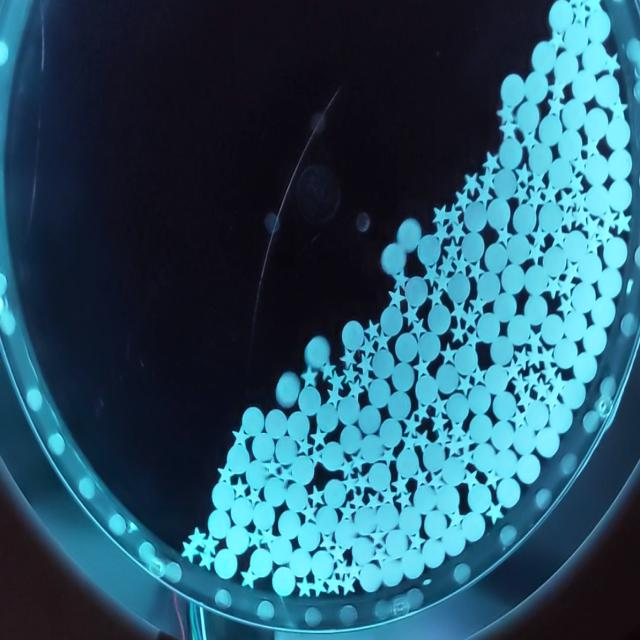disco blanco: (570, 66, 596, 105), (500, 72, 526, 108), (379, 242, 408, 274), (415, 232, 443, 265), (537, 113, 564, 147), (459, 230, 487, 262), (602, 236, 630, 268), (534, 426, 562, 458), (524, 70, 550, 104), (584, 106, 610, 140), (584, 152, 610, 186), (403, 273, 429, 307), (530, 41, 558, 72), (396, 217, 423, 249), (500, 262, 527, 294), (495, 443, 519, 479), (276, 372, 300, 408), (558, 127, 584, 160), (340, 319, 366, 352), (562, 376, 587, 410), (467, 381, 492, 415), (270, 532, 295, 566), (570, 282, 598, 312), (552, 338, 580, 368), (466, 412, 494, 442), (224, 525, 252, 555), (498, 137, 524, 169), (554, 52, 580, 84), (582, 41, 608, 73), (604, 118, 630, 150), (582, 324, 608, 356), (488, 335, 514, 367), (492, 389, 518, 421), (490, 418, 516, 450), (471, 441, 497, 473), (240, 405, 266, 437), (466, 482, 492, 514), (214, 548, 240, 580), (562, 96, 586, 130), (512, 422, 536, 456), (306, 334, 330, 368), (492, 168, 518, 199), (594, 75, 620, 106), (598, 267, 624, 298), (476, 312, 502, 343), (524, 399, 550, 430), (487, 197, 512, 229), (541, 312, 566, 344), (423, 508, 448, 540), (296, 520, 321, 552), (462, 200, 488, 230), (548, 158, 574, 188), (537, 202, 563, 232), (578, 252, 604, 282), (592, 297, 618, 327), (562, 310, 588, 340), (414, 374, 440, 404), (572, 352, 598, 382), (249, 548, 275, 578), (272, 566, 298, 596), (416, 331, 441, 362), (290, 454, 315, 485), (587, 10, 611, 42), (564, 24, 588, 56), (585, 184, 609, 216), (507, 314, 531, 346), (454, 343, 478, 375), (436, 362, 460, 394), (394, 330, 418, 362), (380, 304, 404, 336), (445, 390, 469, 422), (550, 402, 574, 434), (442, 455, 466, 487), (211, 479, 235, 511), (350, 534, 374, 566), (516, 102, 541, 132), (322, 478, 347, 508), (403, 548, 425, 582), (334, 517, 356, 551), (528, 143, 552, 174), (564, 229, 588, 260), (517, 452, 541, 483), (484, 242, 507, 274), (263, 476, 286, 508), (446, 273, 472, 301), (297, 388, 323, 416), (548, 1, 573, 30), (608, 149, 632, 179), (507, 235, 531, 265), (544, 246, 568, 276), (476, 271, 500, 301), (493, 292, 517, 322), (524, 294, 548, 324), (427, 304, 451, 334), (392, 360, 416, 390), (484, 364, 508, 394), (367, 378, 391, 408), (358, 404, 382, 434), (226, 444, 250, 474), (375, 500, 399, 530), (252, 500, 276, 530), (208, 508, 232, 538), (610, 178, 632, 210), (424, 441, 446, 473), (251, 430, 273, 462), (322, 439, 344, 471), (444, 524, 466, 556), (423, 536, 445, 568), (359, 563, 381, 595), (384, 528, 406, 560), (380, 418, 404, 447), (244, 459, 268, 488), (277, 509, 301, 538), (288, 408, 309, 441), (368, 462, 391, 492), (436, 484, 459, 514), (398, 447, 420, 478), (380, 558, 402, 589), (524, 267, 548, 295), (361, 434, 385, 462), (338, 395, 359, 427), (274, 436, 298, 464), (311, 550, 335, 578), (398, 506, 421, 535), (372, 348, 394, 378), (340, 424, 362, 454), (316, 403, 338, 433), (287, 482, 309, 512), (231, 496, 253, 526), (414, 484, 436, 514), (498, 478, 520, 508), (463, 512, 485, 542), (290, 548, 312, 578), (388, 392, 412, 419), (266, 410, 289, 438), (354, 506, 376, 535), (513, 205, 536, 232), (316, 506, 337, 534)
estrella blanca: (293, 573, 315, 600), (448, 319, 470, 345), (608, 96, 629, 123), (237, 567, 260, 591), (496, 118, 521, 140), (522, 364, 544, 389), (542, 272, 563, 298), (411, 464, 432, 490), (364, 314, 384, 341), (602, 52, 624, 76), (548, 77, 570, 101), (408, 316, 432, 338), (179, 537, 201, 561), (524, 240, 544, 266), (484, 498, 504, 524), (229, 423, 249, 449), (420, 262, 441, 286), (614, 208, 633, 234), (439, 343, 458, 369), (262, 452, 281, 478), (197, 546, 216, 572), (512, 181, 530, 208), (296, 431, 314, 458), (598, 209, 620, 231), (548, 29, 568, 53), (546, 94, 566, 118), (482, 146, 498, 176), (558, 205, 578, 229), (478, 168, 498, 192), (432, 222, 452, 246), (442, 238, 462, 262), (468, 292, 488, 316), (412, 356, 432, 380), (556, 293, 576, 317), (460, 465, 480, 489), (306, 482, 326, 506), (328, 542, 348, 566), (188, 525, 208, 549), (432, 201, 451, 226), (414, 426, 433, 451), (538, 343, 556, 369), (512, 344, 530, 370), (458, 442, 476, 468), (505, 353, 521, 382), (581, 216, 602, 238), (496, 102, 516, 125), (447, 299, 467, 322), (426, 468, 446, 491), (364, 489, 384, 512), (460, 305, 479, 329), (526, 326, 544, 351), (391, 471, 409, 496), (512, 368, 528, 396), (232, 474, 248, 502), (572, 3, 592, 25), (558, 188, 578, 210), (474, 184, 494, 206), (392, 268, 412, 290), (483, 466, 503, 488), (324, 385, 344, 407), (394, 488, 414, 510), (276, 463, 296, 485), (571, 152, 589, 176), (450, 219, 468, 243), (438, 253, 456, 277), (528, 342, 544, 369), (456, 372, 474, 396), (402, 412, 420, 436), (300, 364, 318, 388), (340, 498, 358, 522), (248, 526, 266, 550), (372, 331, 392, 352), (214, 464, 235, 484), (382, 482, 398, 508), (595, 220, 613, 243), (454, 188, 472, 211), (426, 284, 444, 307), (534, 376, 552, 399), (583, 136, 600, 160), (463, 171, 480, 195), (466, 261, 486, 281), (525, 190, 545, 210), (401, 304, 421, 324), (448, 322, 468, 342), (429, 412, 449, 432), (366, 528, 386, 548), (405, 531, 425, 551), (550, 226, 568, 248), (530, 226, 548, 248), (528, 170, 546, 192), (516, 387, 534, 409), (430, 395, 448, 417), (448, 418, 466, 440), (342, 362, 360, 384), (340, 346, 358, 368), (328, 370, 346, 392), (370, 544, 388, 566), (446, 505, 464, 527), (310, 574, 328, 596), (380, 446, 398, 468), (458, 428, 475, 451), (354, 468, 369, 494), (572, 205, 588, 229), (514, 163, 530, 187), (360, 334, 376, 358), (350, 449, 366, 473), (311, 424, 327, 448), (326, 572, 342, 596), (202, 531, 218, 555), (260, 525, 276, 549), (386, 289, 406, 308), (435, 426, 454, 446), (356, 353, 374, 374), (300, 502, 318, 523), (448, 434, 465, 456), (247, 484, 264, 506), (520, 130, 538, 150), (572, 189, 590, 209), (542, 184, 560, 204), (437, 270, 452, 294), (465, 328, 483, 348), (542, 360, 560, 380), (320, 359, 338, 379), (339, 454, 354, 478), (319, 530, 337, 550), (586, 234, 602, 256), (494, 226, 510, 248), (564, 260, 580, 282), (351, 489, 367, 511), (308, 446, 324, 468), (447, 202, 462, 225), (334, 558, 349, 580), (341, 572, 356, 594), (568, 172, 584, 192), (560, 278, 576, 298), (471, 366, 487, 386), (346, 560, 362, 580), (552, 374, 566, 396), (356, 372, 374, 389), (414, 403, 430, 421), (454, 255, 469, 274), (545, 388, 559, 408)
